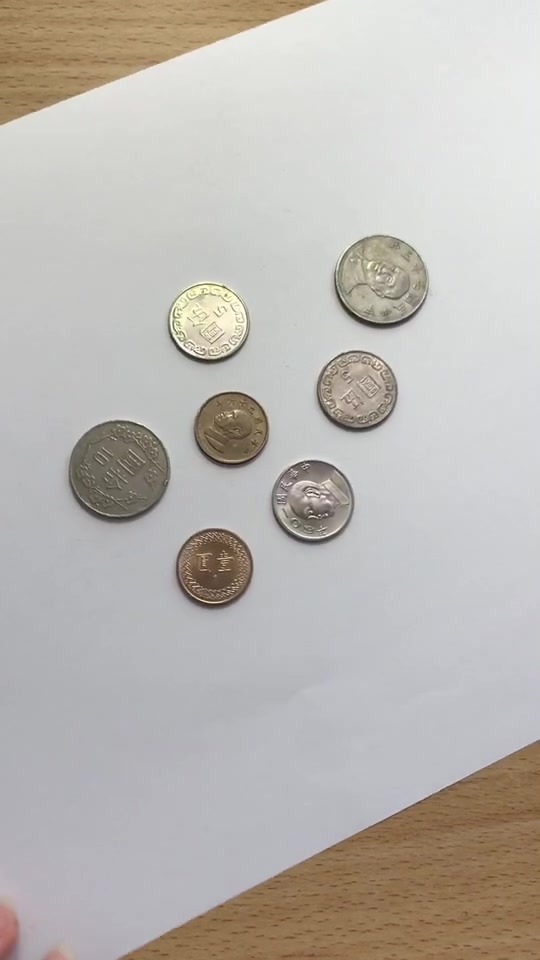1 dallar: (188, 380, 282, 469), (167, 526, 261, 615)
10 dallar: (61, 412, 178, 530), (319, 219, 436, 337)
5 dallar: (155, 277, 259, 367), (309, 345, 413, 435), (262, 457, 366, 547)
